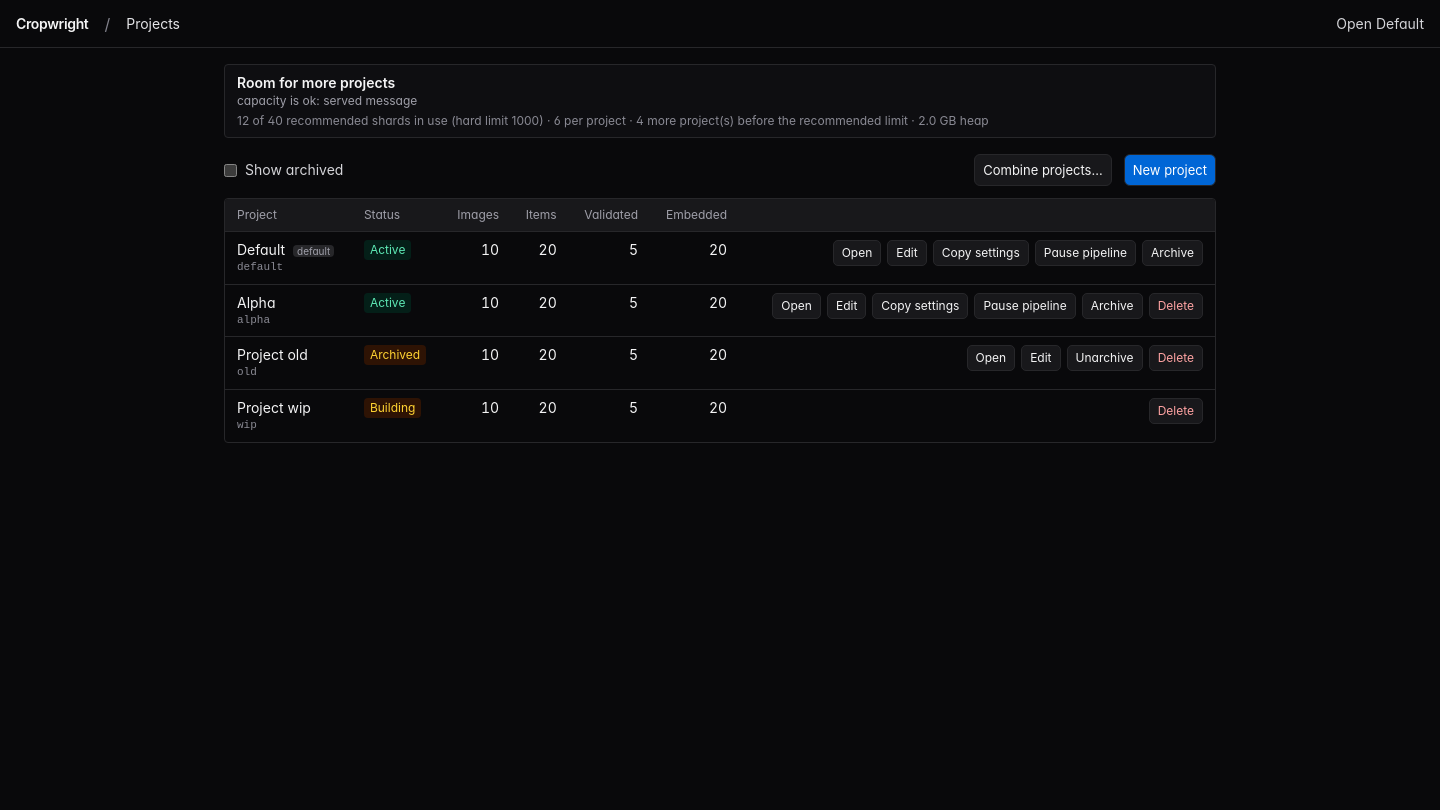
Test: delete › sends the typed slug as confirm and renders a served refusal verbatim
The width and height of the screenshot is (1440, 810).
Click the 1st button "Delete": (1176,306) [1149,293,1203,319]
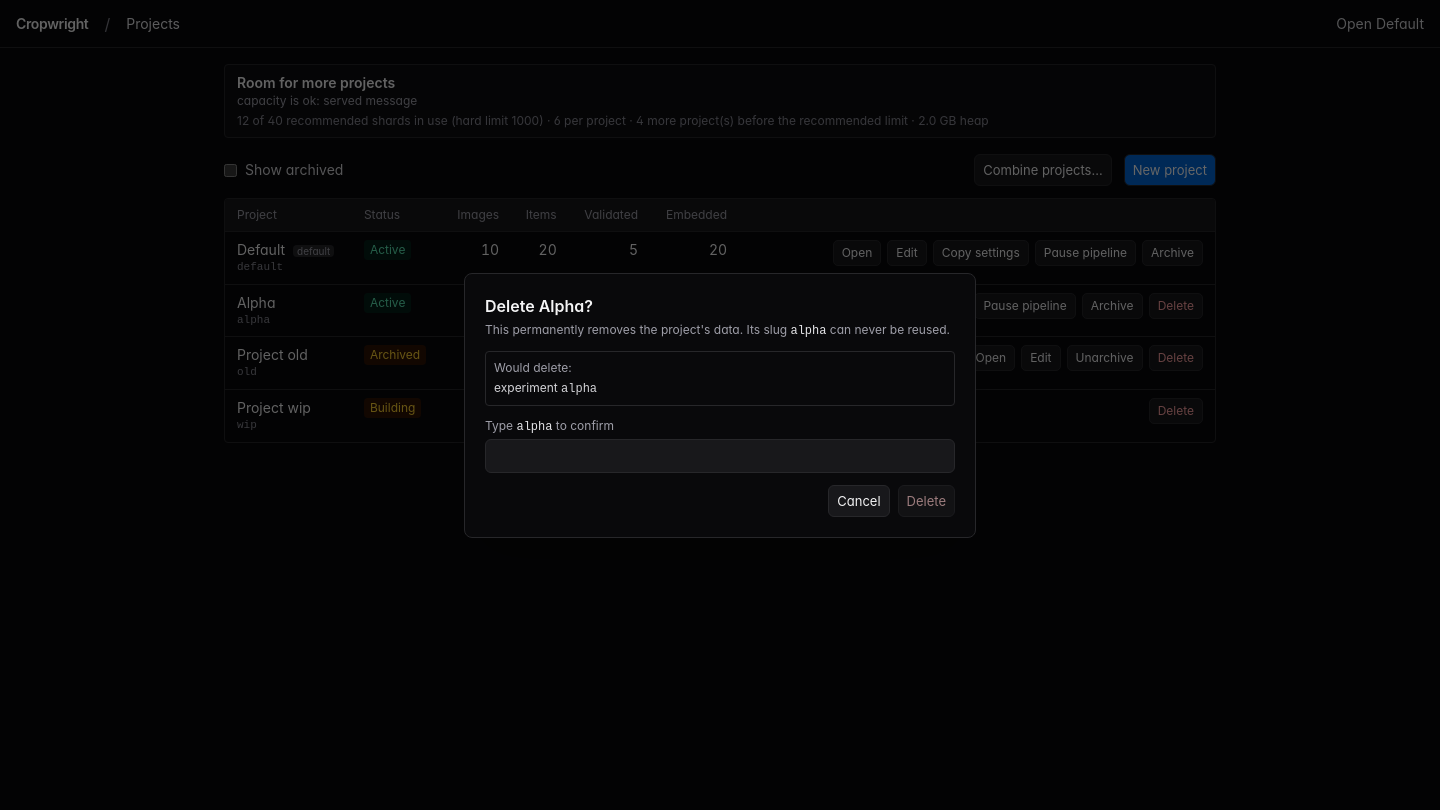
In the field labelled "Type alpha to confirm": (720,456) [485,438,955,472], type "alpha"
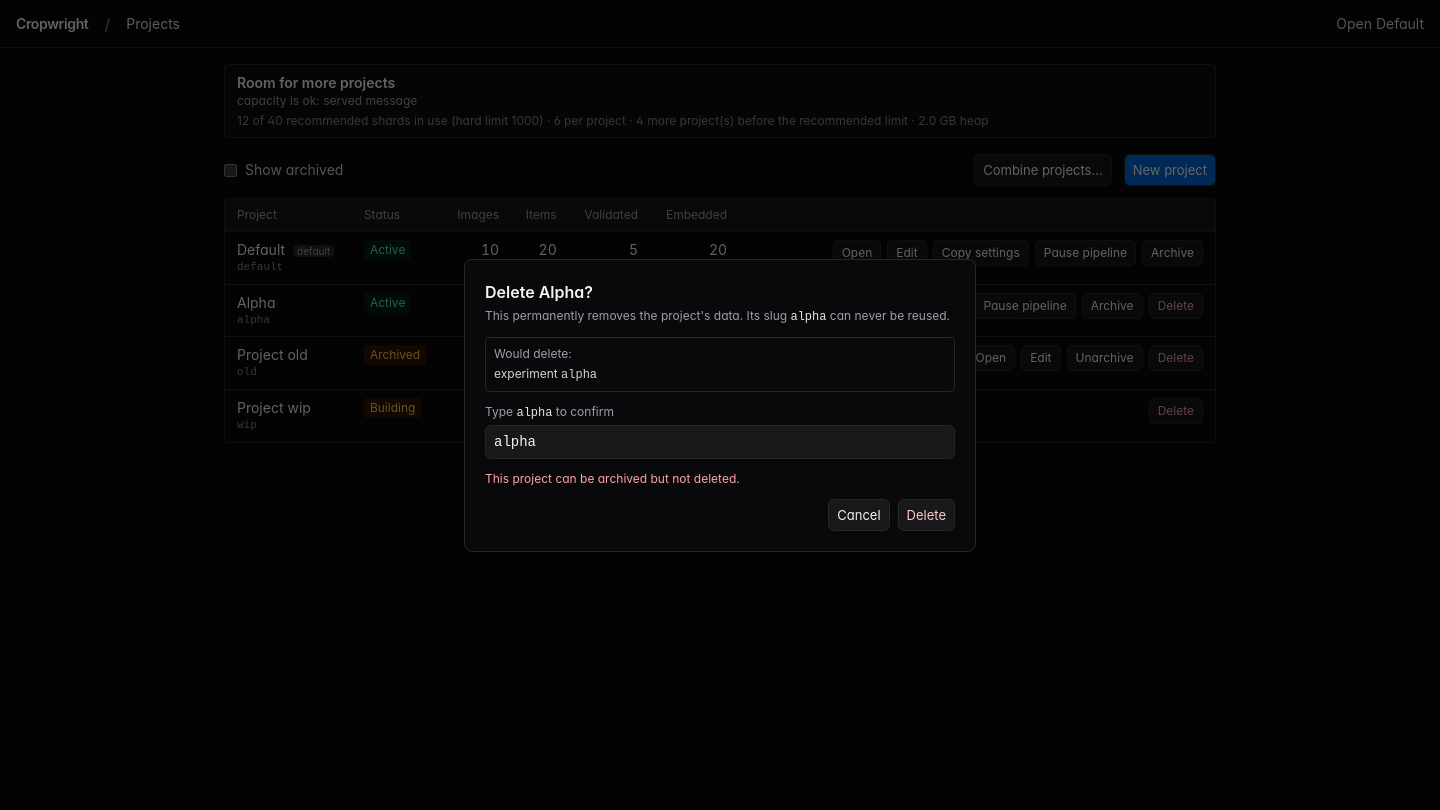
expect the text "This project can be archived but not deleted." is shown: met, box [485,470,740,486]
